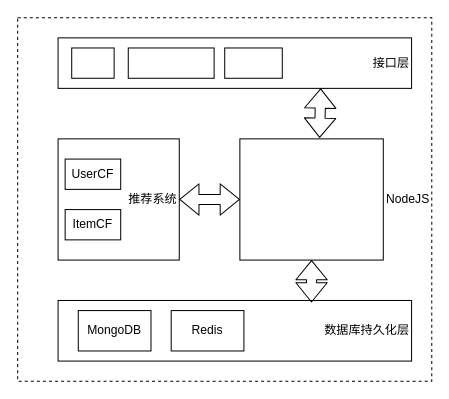
Image size: 449x399. Some labels were removed from this diagram. The centre of each missing label's shape, as x and y in pixels:
http: the point at 92,62
Koa2: the point at 253,62
LBS云接口: the point at 170,62
后台逻辑层: the point at 311,199
